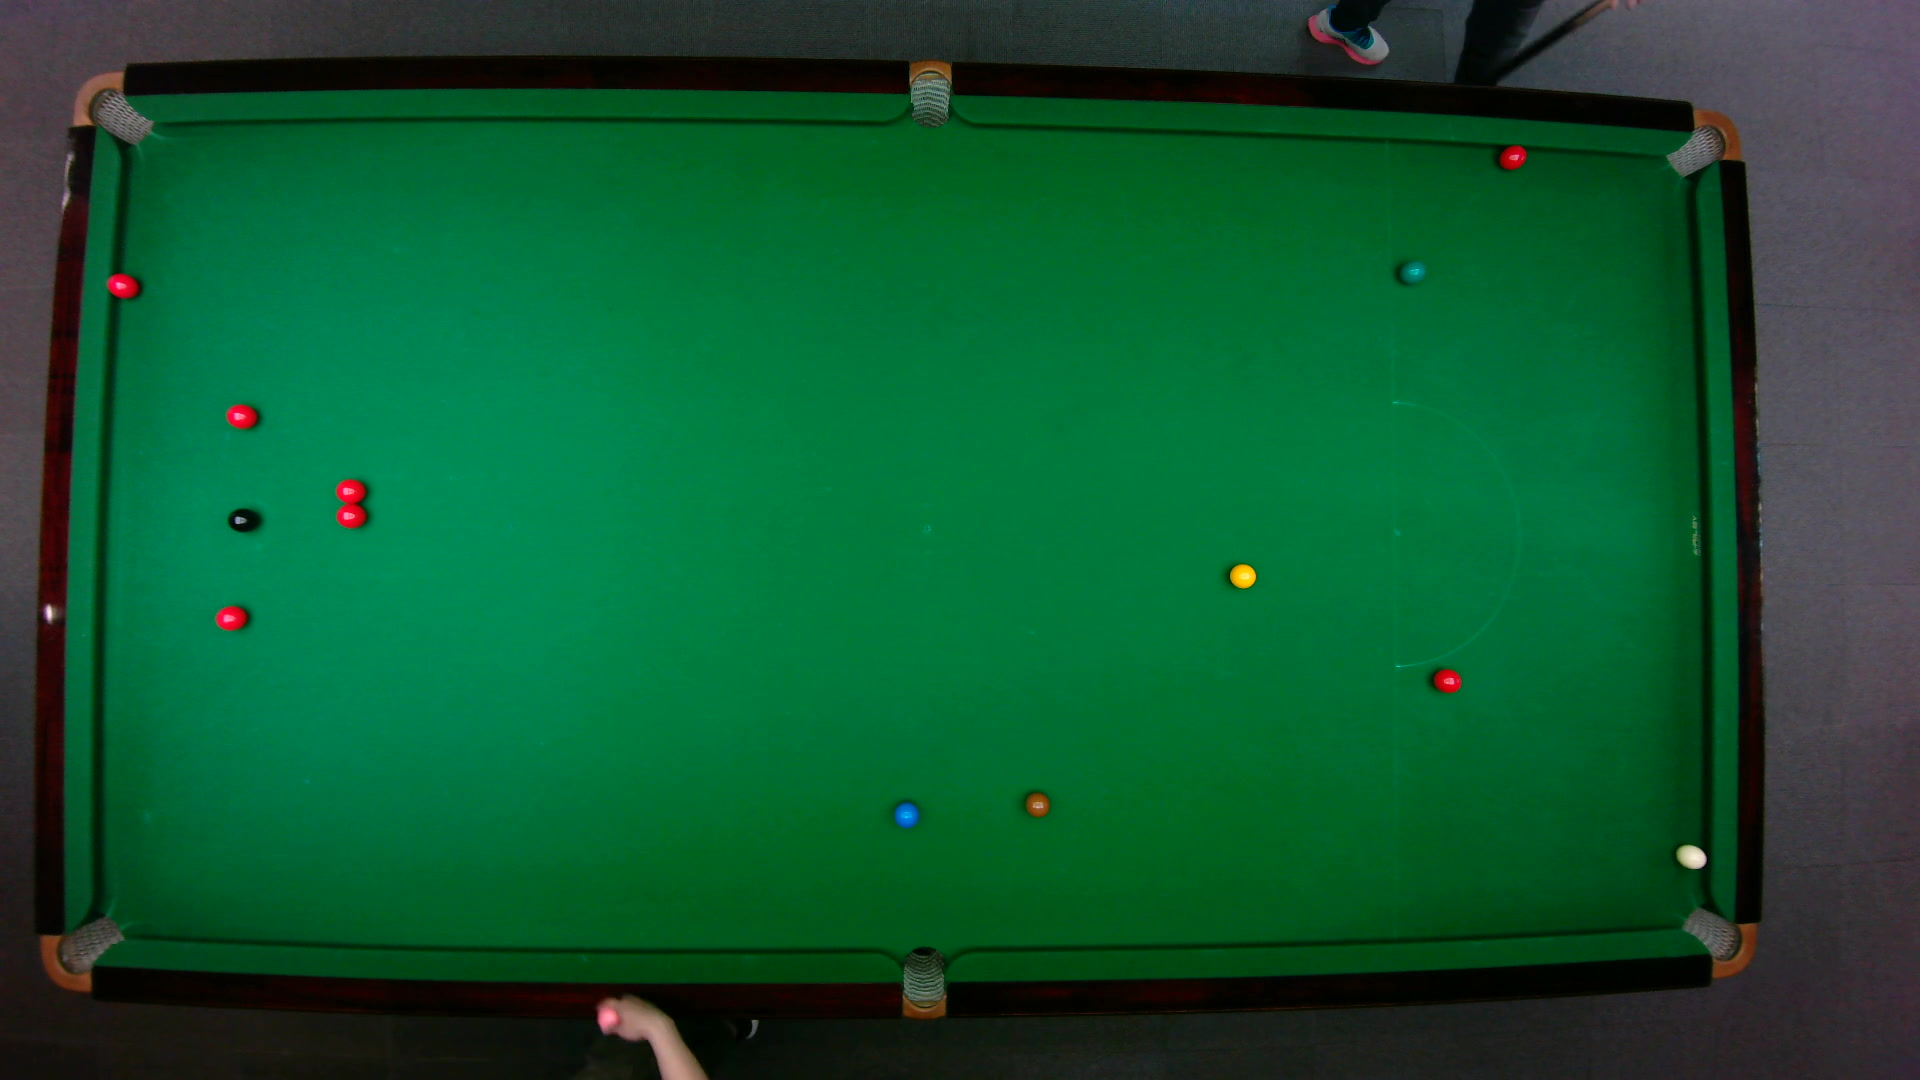bag: (37, 913, 127, 992), (69, 70, 154, 145), (1677, 905, 1756, 978), (1662, 107, 1742, 175), (901, 944, 944, 1021), (909, 57, 949, 128)
black: (225, 506, 258, 531)
blue: (891, 800, 919, 828)
brown: (1023, 791, 1050, 818)
green: (1396, 258, 1425, 284)
red: (103, 270, 138, 299), (212, 603, 248, 632), (1429, 666, 1462, 694), (223, 402, 257, 429), (332, 502, 367, 529), (334, 476, 367, 502), (1497, 142, 1527, 169)
white: (1673, 843, 1706, 868)
yellow: (1226, 560, 1257, 588)
zone: (1390, 400, 1520, 669)
